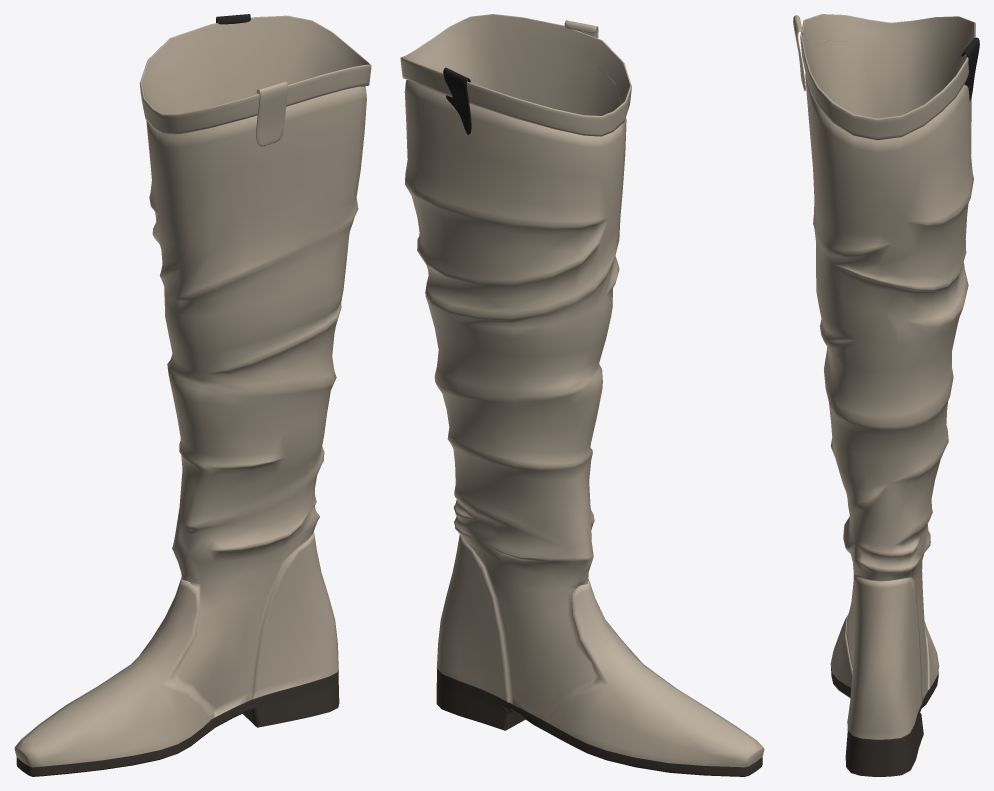
File: High Boots.fbx
The picture shows the model from 3 angles, left to right: view 1: azimuth 30°, elevation 25°; view 2: azimuth 150°, elevation 25°; view 3: azimuth 270°, elevation 25°; orthographic projection. The views are drawn at different scales.
Parts seen in each view (by area): view 1: boots_02; view 2: boots_02; view 3: boots_02.
Boxes of the visible parts, x1,y1,x2,y2 form: boots_02: (14, 14, 371, 776); boots_02: (400, 14, 764, 776); boots_02: (793, 14, 979, 776).
Size of the model in its own units: 231 by 430 by 103.
